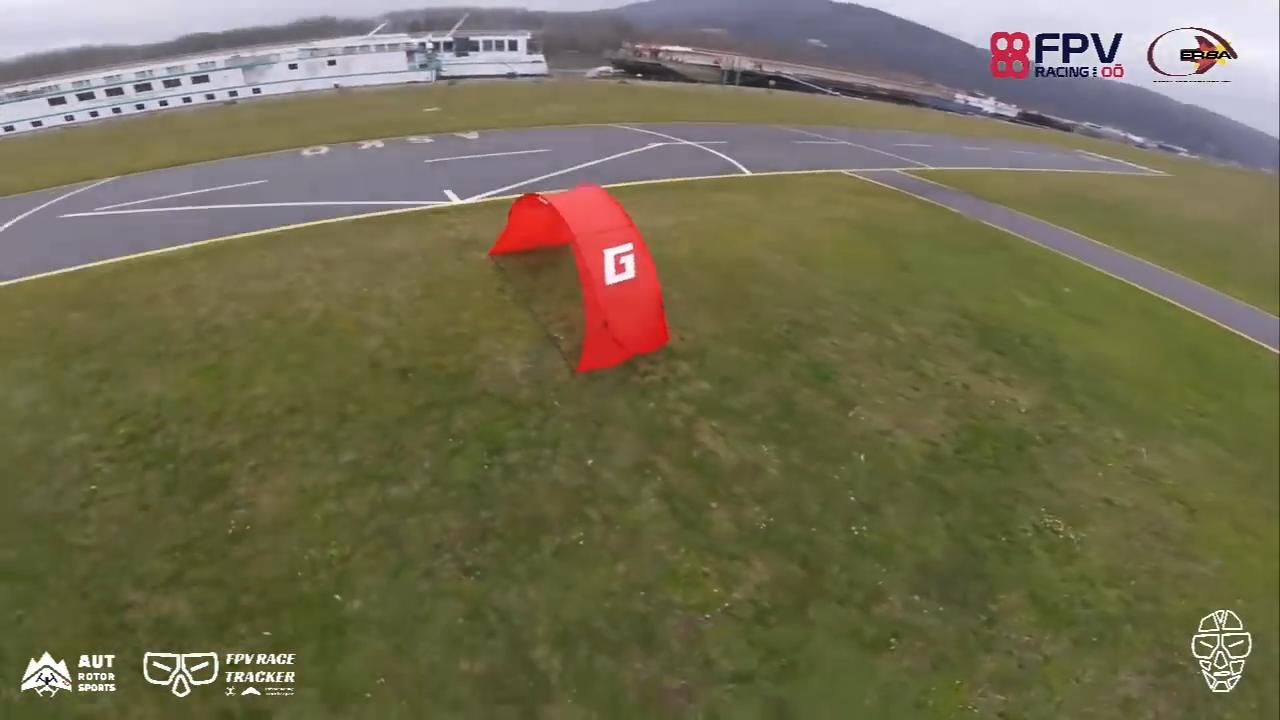gate: (484, 181, 672, 378)
